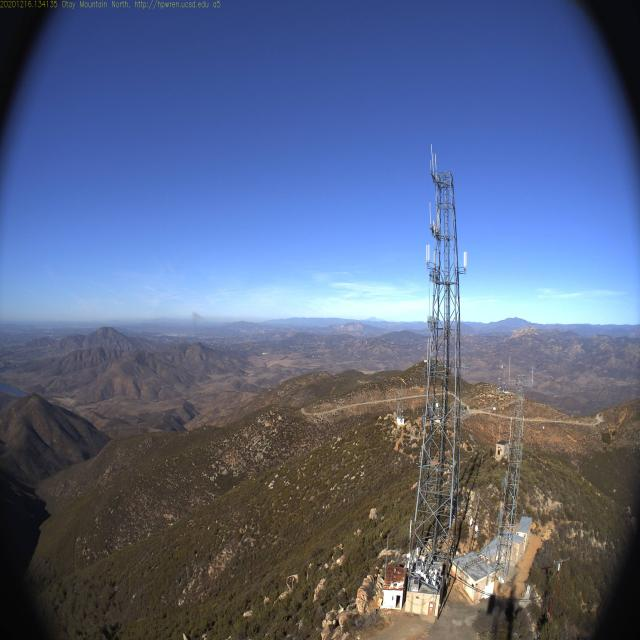smoke: (188, 308, 204, 341)
